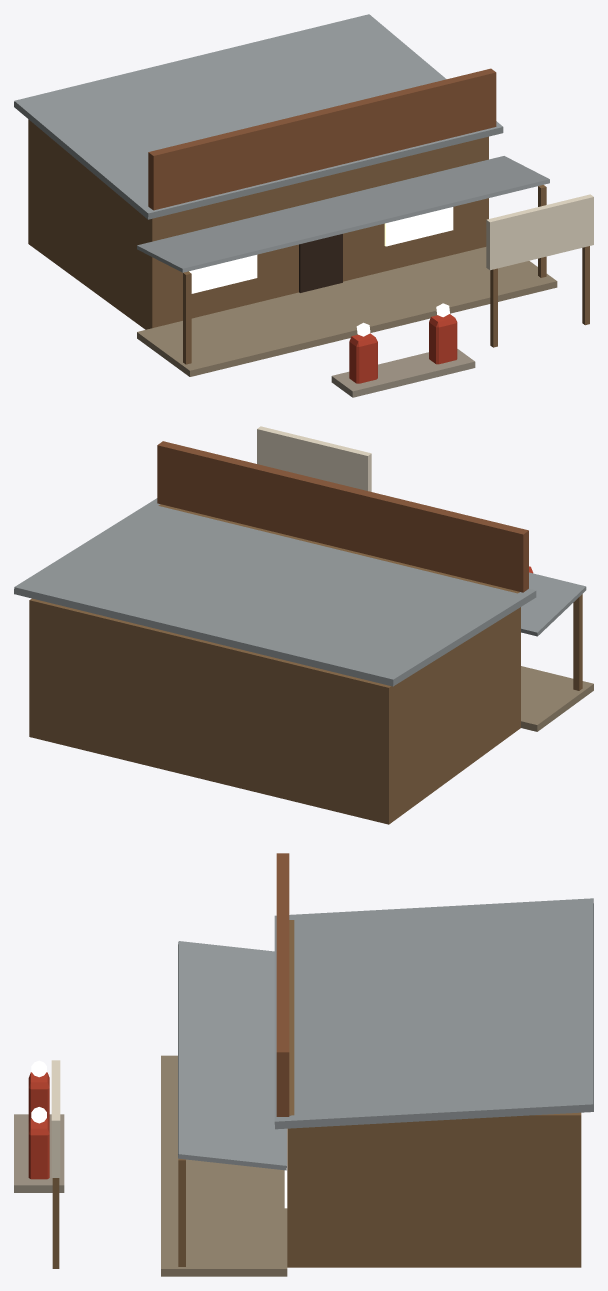
File: general_store.glb
3 renders of one model, top to bottom at view 1: azimuth 30°, elevation 25°; view 2: azimuth 150°, elevation 25°; view 3: azimuth 270°, elevation 25°, orthographic. The views are drawn at different scales.
Visible parts, largest first — view 1: general_store; view 2: general_store; view 3: general_store.
Boxes of the visible parts, left/top/right/bottom form: general_store: left=14, top=14, right=593, bottom=397; general_store: left=14, top=426, right=593, bottom=824; general_store: left=14, top=853, right=593, bottom=1276.
Size of the model in its own units: 12 by 5.7 by 13.8.
